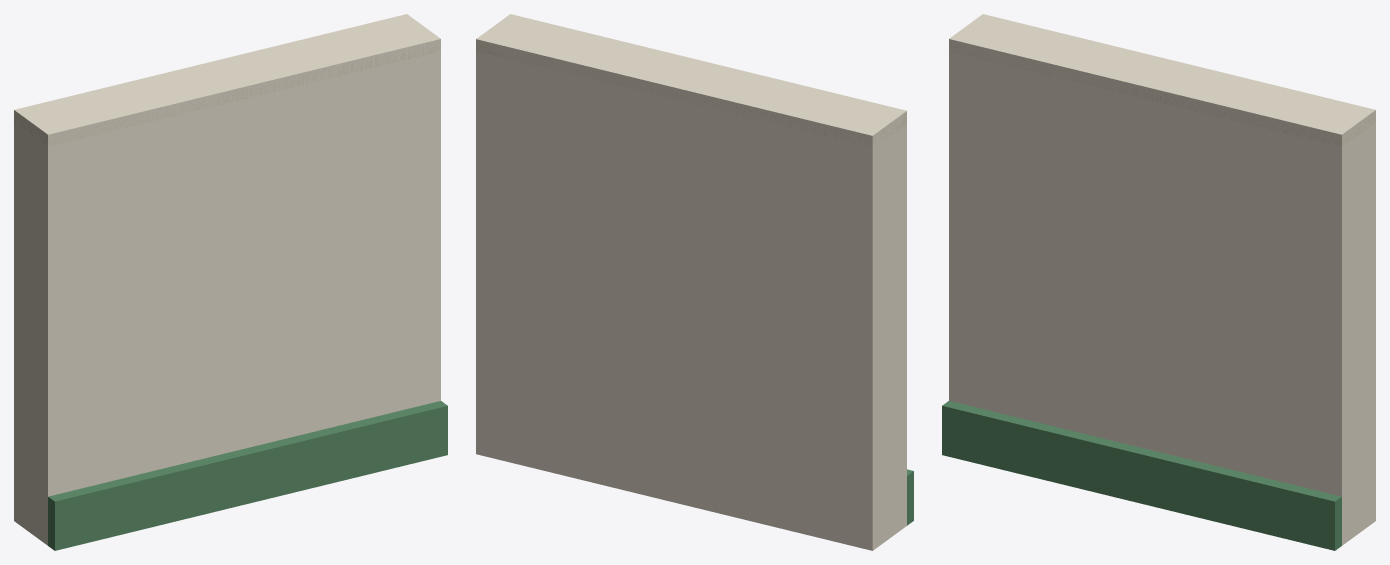
The model's file is wall.glb.
3 views of the same model, side by side, from view 1: azimuth 30°, elevation 25°; view 2: azimuth 150°, elevation 25°; view 3: azimuth 330°, elevation 25° (orthographic).
Parts seen in each view (by area): view 1: wall; view 2: wall; view 3: wall.
Part boxes in pixels (box(x1,y1,x2,y2)): wall: box(14, 14, 447, 550); wall: box(476, 14, 913, 550); wall: box(942, 14, 1375, 550).
Bounding box in the file's own units: 1 × 1 × 0.18.
Materials: 1 (1 with a texture image).
